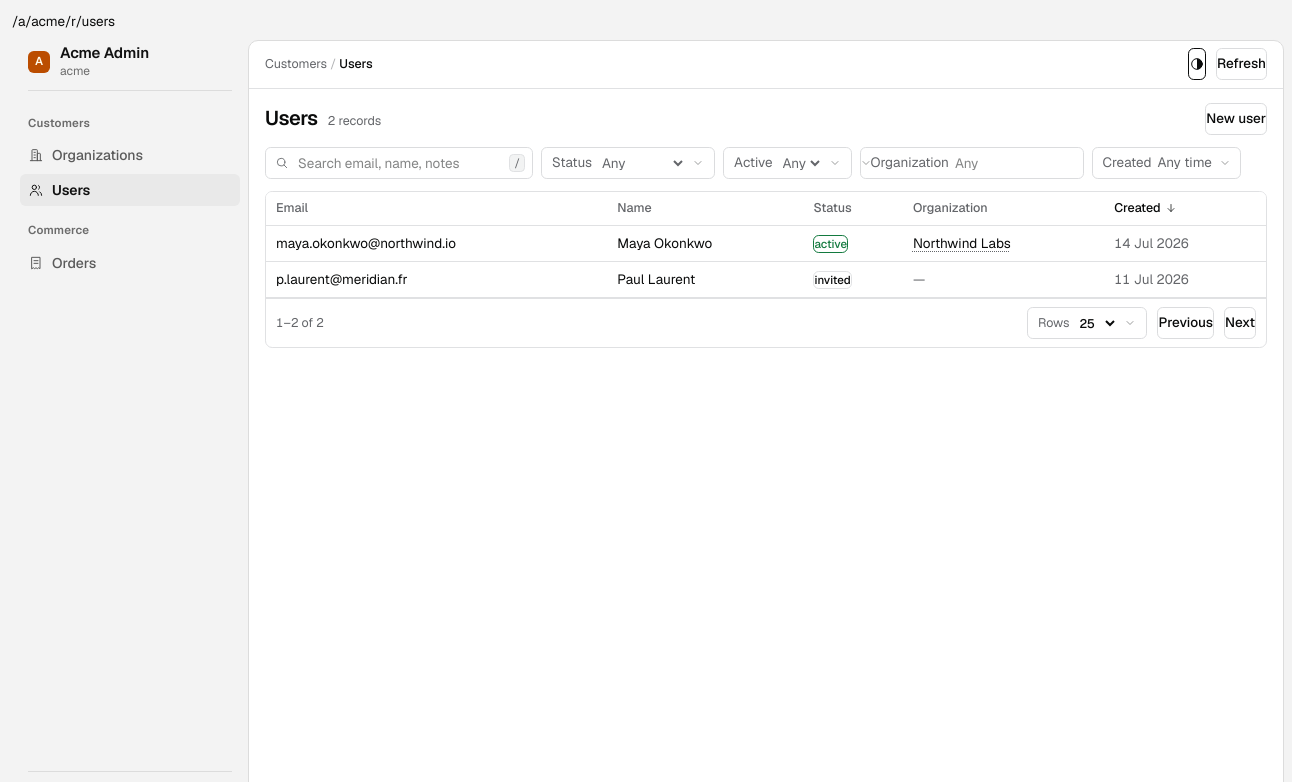
Test: the table page › opens the record whose row was clicked
What coordinates should you click on to do the following:
click the text "Maya Okonkwo"
I would click on:
 (665, 243)
Its box is [617,234,712,252].
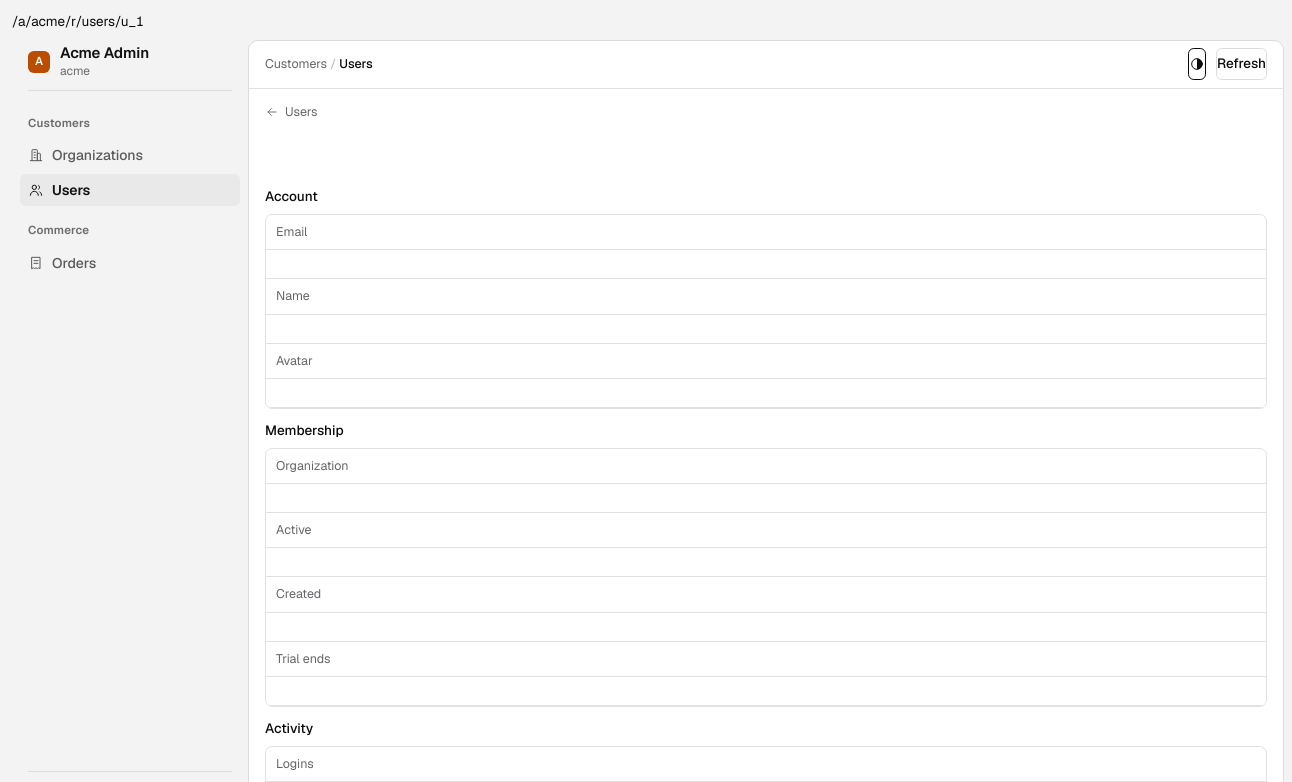
expect the text with test id "url" reads "/a/acme/r/users/u_1": met, box [12,12,144,30]
